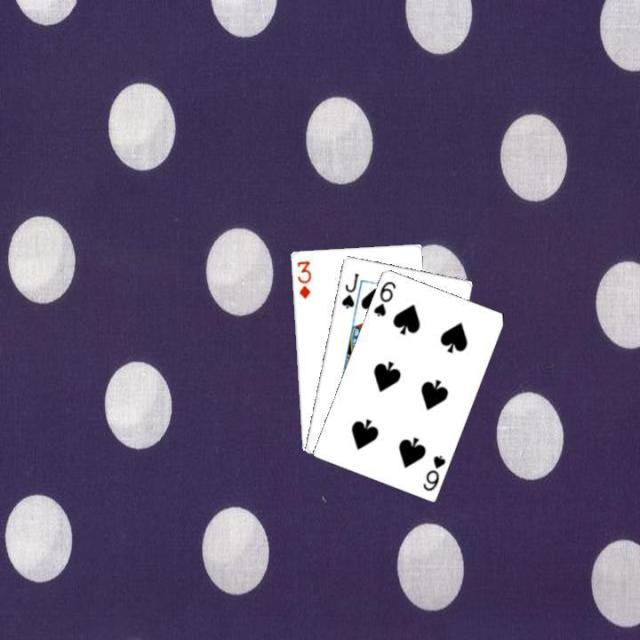3D: (292, 257, 313, 300)
6S: (419, 450, 447, 492), (370, 276, 397, 318)
JS: (338, 270, 360, 310)
